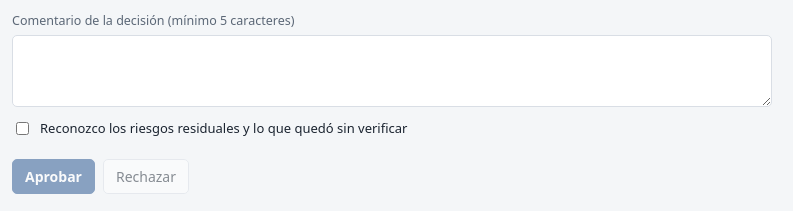
Test: formulario de decisión › exige un comentario mínimo incluso para rechazar
This screenshot has width=793, height=211.
Check: the button "Rechazar" is disabled, box [103,158,189,194]
In the text box labelled "Comentario de la decisión (mínimo 5 caracteres)": (392, 71) [12,35,772,107], type "ok"
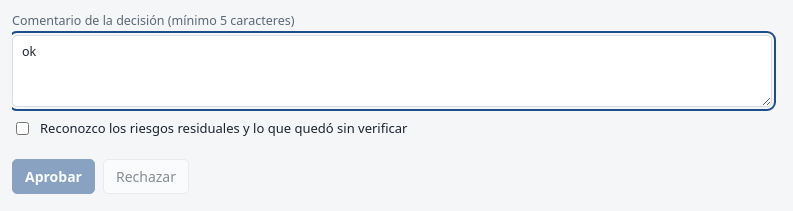
Check: the button "Rechazar" is disabled, box [103,158,189,194]
In the text box labelled "Comentario de la decisión (mínimo 5 caracteres)": (392, 71) [12,35,772,107], type "ficiente"
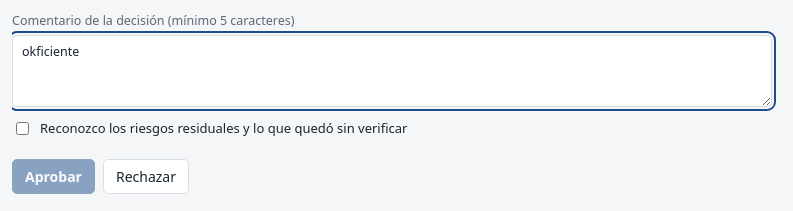
Check: the button "Rechazar" is enabled, box [103,158,189,194]
